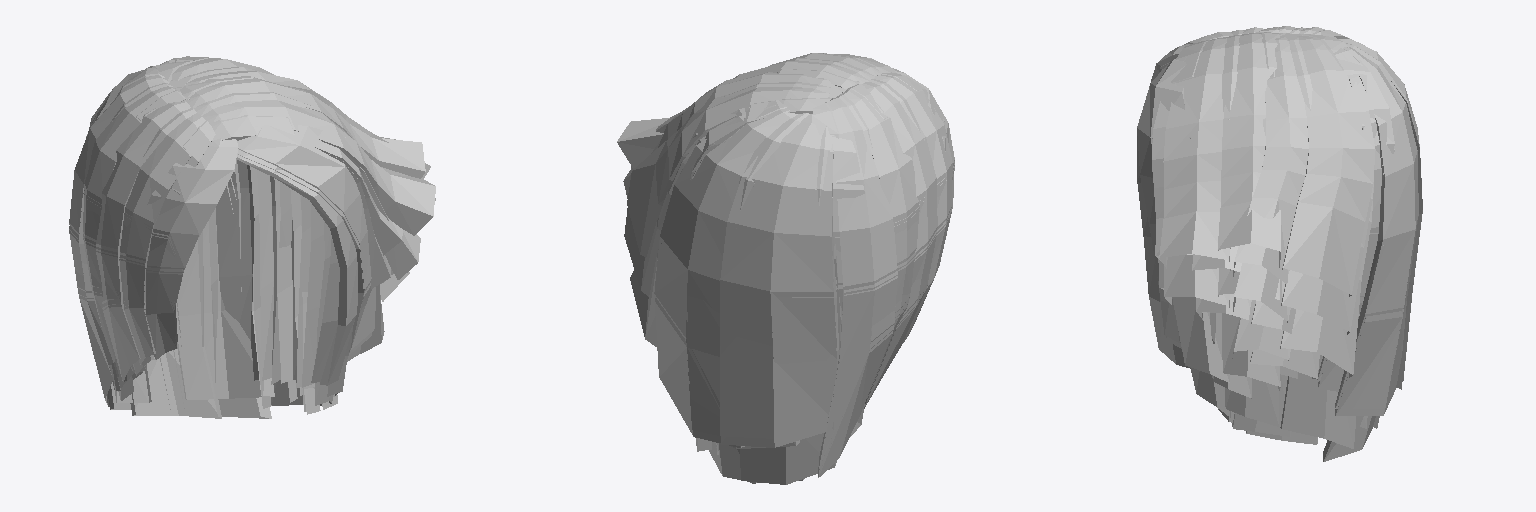
The picture shows the model from 3 angles: view 1: azimuth 30°, elevation 25°; view 2: azimuth 150°, elevation 25°; view 3: azimuth 270°, elevation 25°; orthographic projection.
Visible parts, largest first — view 1: T5_null; view 2: T5_null; view 3: T5_null.
Boxes of the visible parts, x1,y1,x2,y2 form: T5_null: [69, 56, 435, 418]; T5_null: [617, 53, 954, 484]; T5_null: [1137, 26, 1422, 461].
Size of the model in its own units: 0.1024 by 0.1189 by 0.0804.